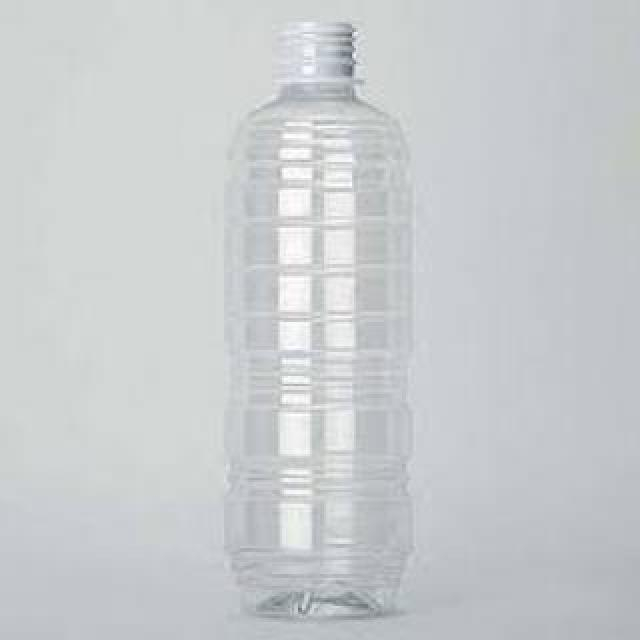Pet_Bottle: (210, 22, 422, 624)
